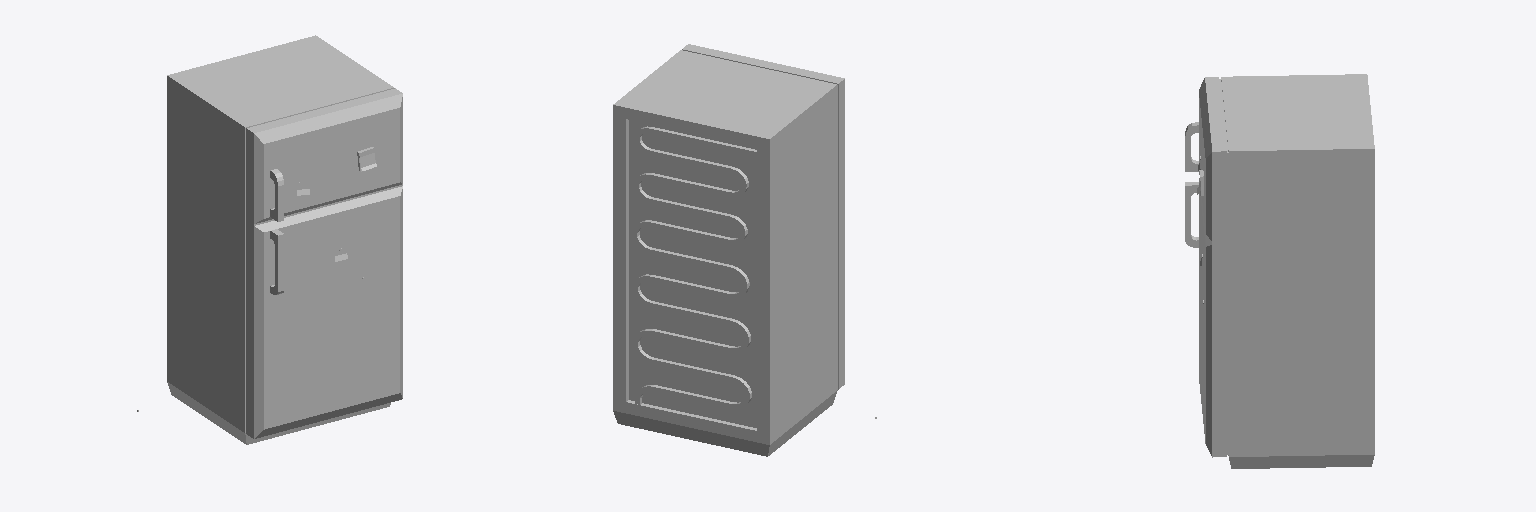
File: fridge.obj
3 views of the same model, side by side, from view 1: azimuth 30°, elevation 25°; view 2: azimuth 150°, elevation 25°; view 3: azimuth 270°, elevation 25° (orthographic).
Visible parts, largest first — view 1: Fridge_Cube; view 2: Fridge_Cube; view 3: Fridge_Cube.
Boxes of the visible parts, <box> form: Fridge_Cube: <box>167,35,402,444</box>; Fridge_Cube: <box>613,44,844,456</box>; Fridge_Cube: <box>1185,74,1374,468</box>.
Bounding box in the file's own units: 541 × 728 × 392.